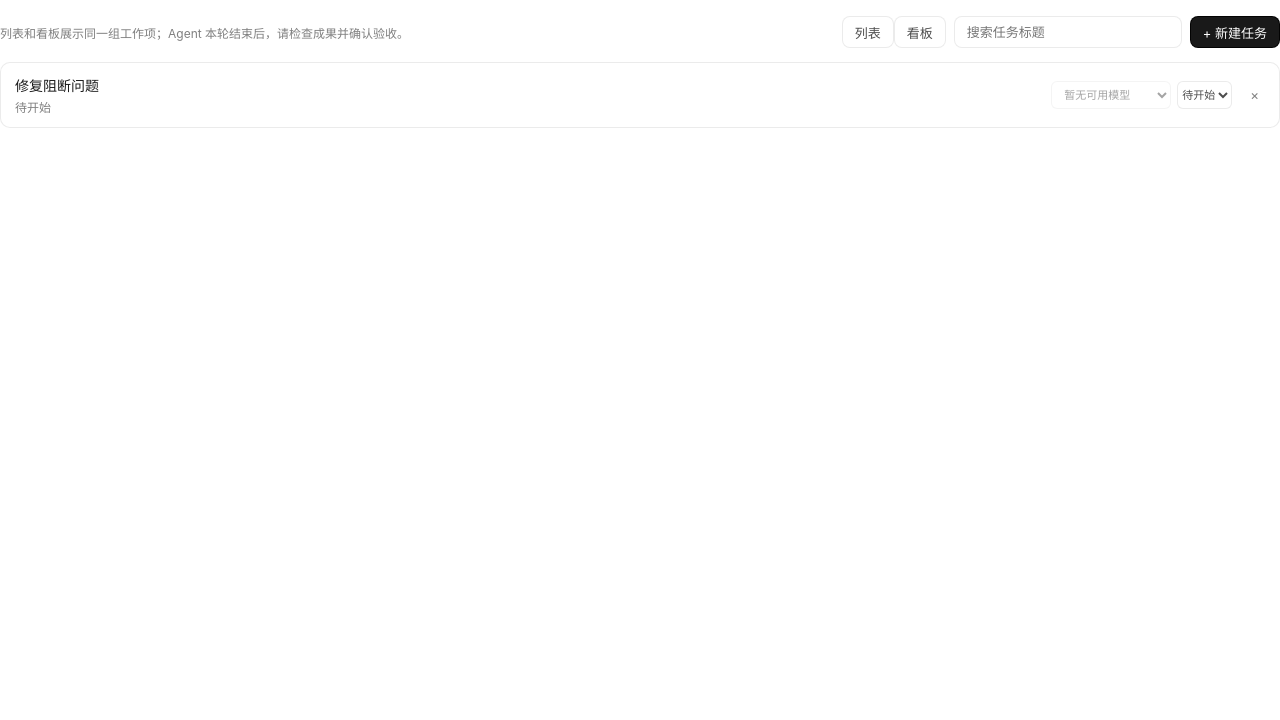
Test case: 项目计划/任务与 Agent 会话闭环 › 删除任务需确认，取消不变更项目
Click the button named "删除任务 修复阻断问题": (1255, 95) [1244, 86, 1265, 104]
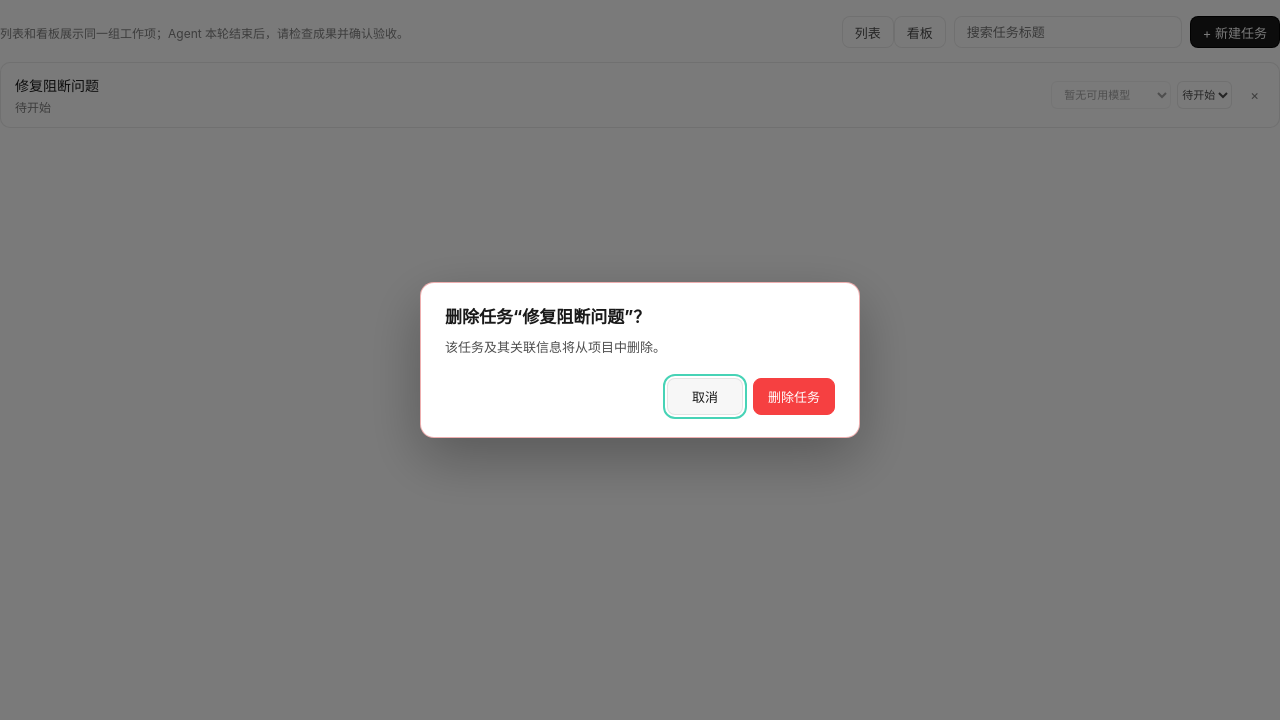
Click the button "取消": (705, 397) [667, 378, 743, 415]
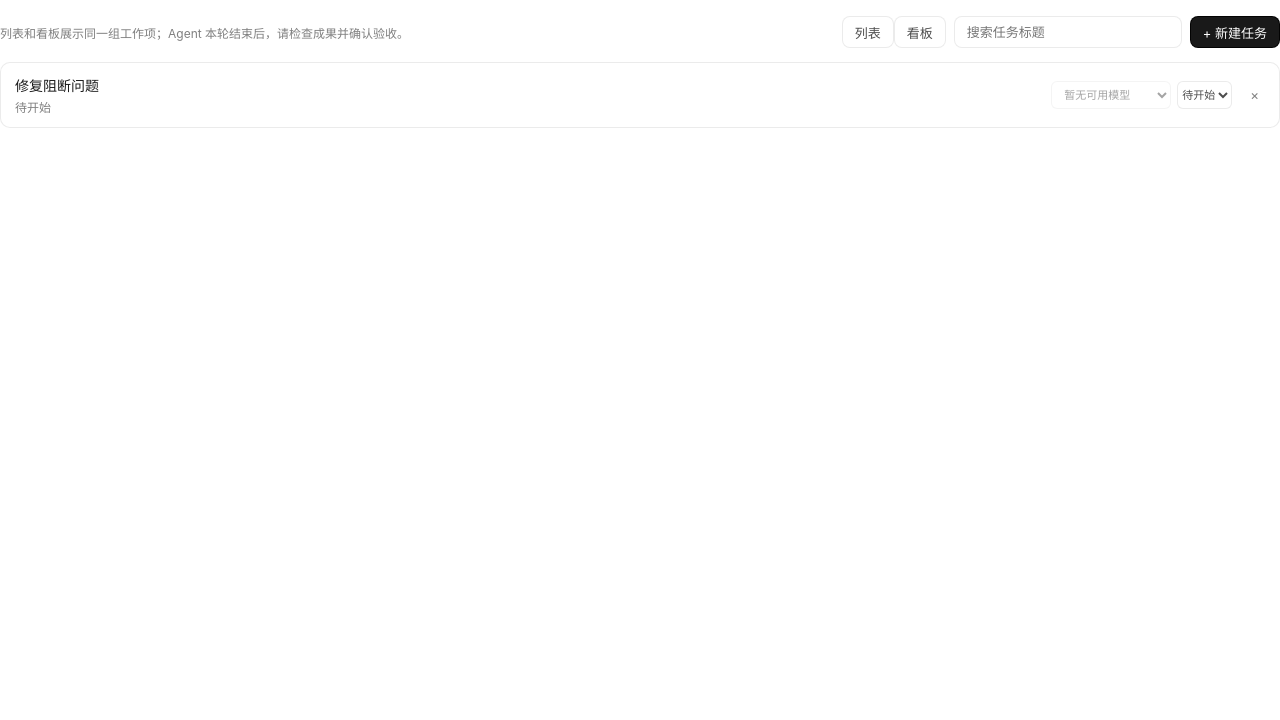
Now the heading "删除任务“修复阻断问题”？" is gone
